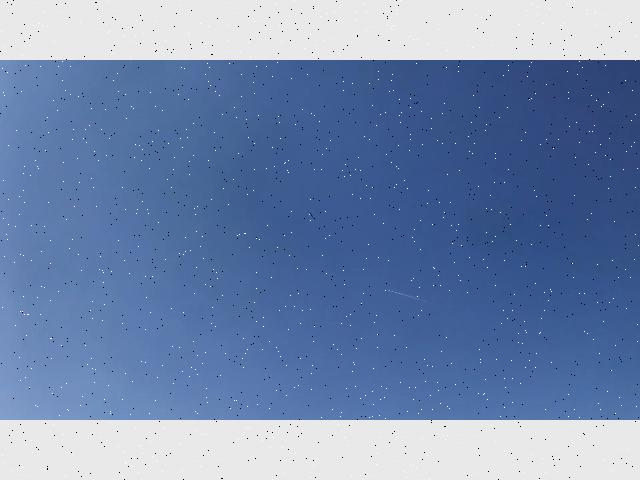Anti-Drone: (299, 202, 335, 228)
